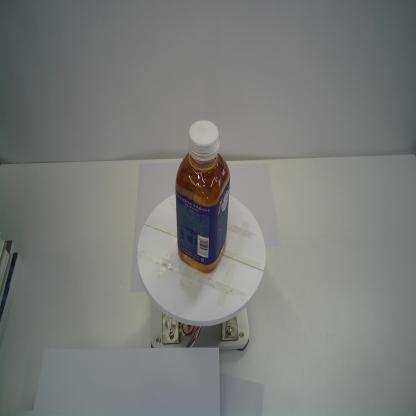Drink: (175, 119, 230, 274)
